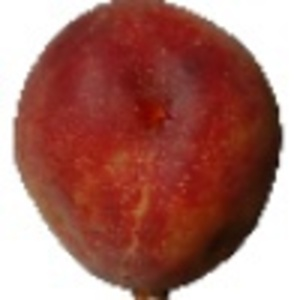pêssego: (3, 1, 284, 300)
